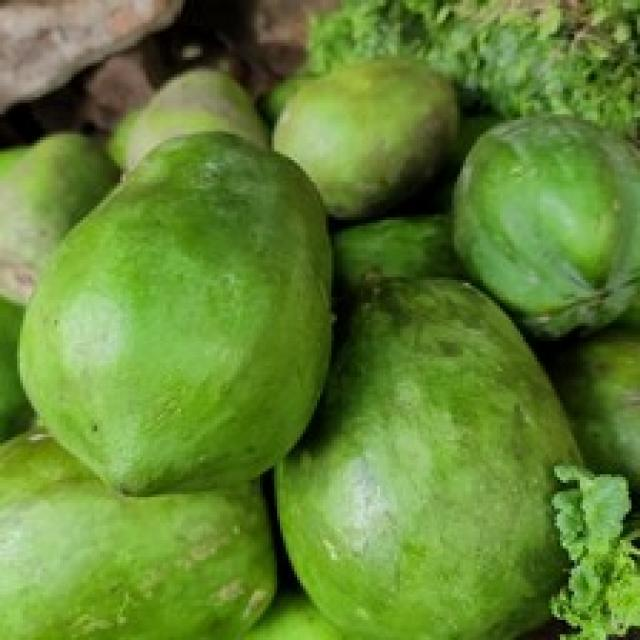Pepaya unrippen: (16, 129, 335, 491), (456, 93, 640, 336)
